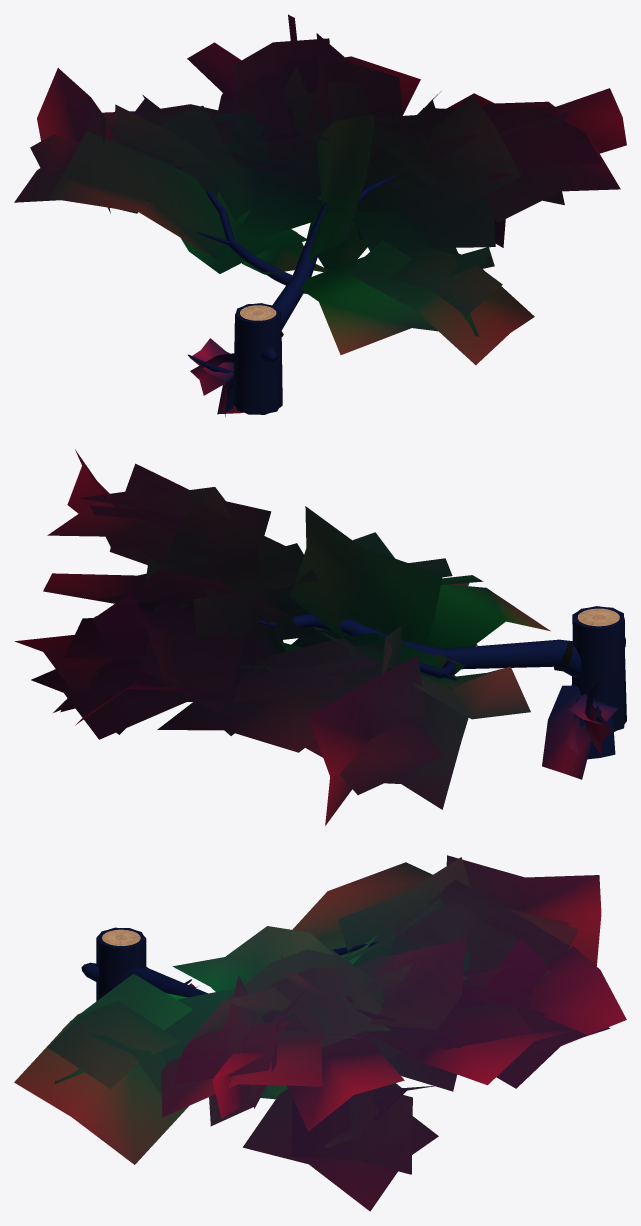
The model's file is obj_harvests_trees_pine01_p08.fbx.
The picture shows the model from 3 angles, top to bottom: view 1: azimuth 30°, elevation 25°; view 2: azimuth 150°, elevation 25°; view 3: azimuth 270°, elevation 25°; orthographic projection. The views are drawn at different scales.
Parts seen in each view (by area): view 1: obj_harvests_trees_pine01_p08; view 2: obj_harvests_trees_pine01_p08; view 3: obj_harvests_trees_pine01_p08.
Part boxes in pixels (<box>): obj_harvests_trees_pine01_p08: <box>14,14,626,416</box>; obj_harvests_trees_pine01_p08: <box>15,449,626,825</box>; obj_harvests_trees_pine01_p08: <box>14,855,626,1211</box>.
Bounding box in the file's own units: 44.85 × 19.72 × 45.9.
